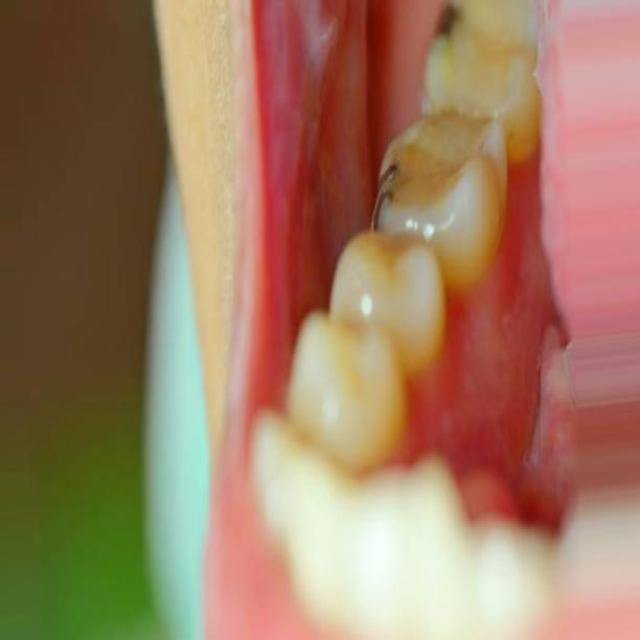caries: (359, 143, 414, 246), (418, 0, 470, 63)
